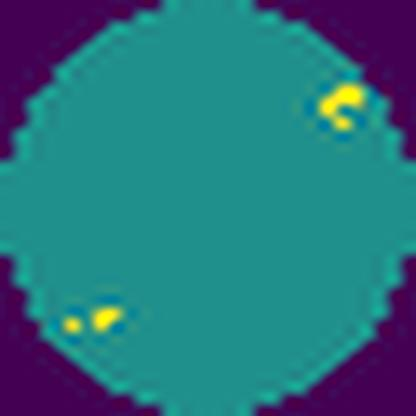Loc: (315, 85, 364, 132), (89, 303, 125, 333)
